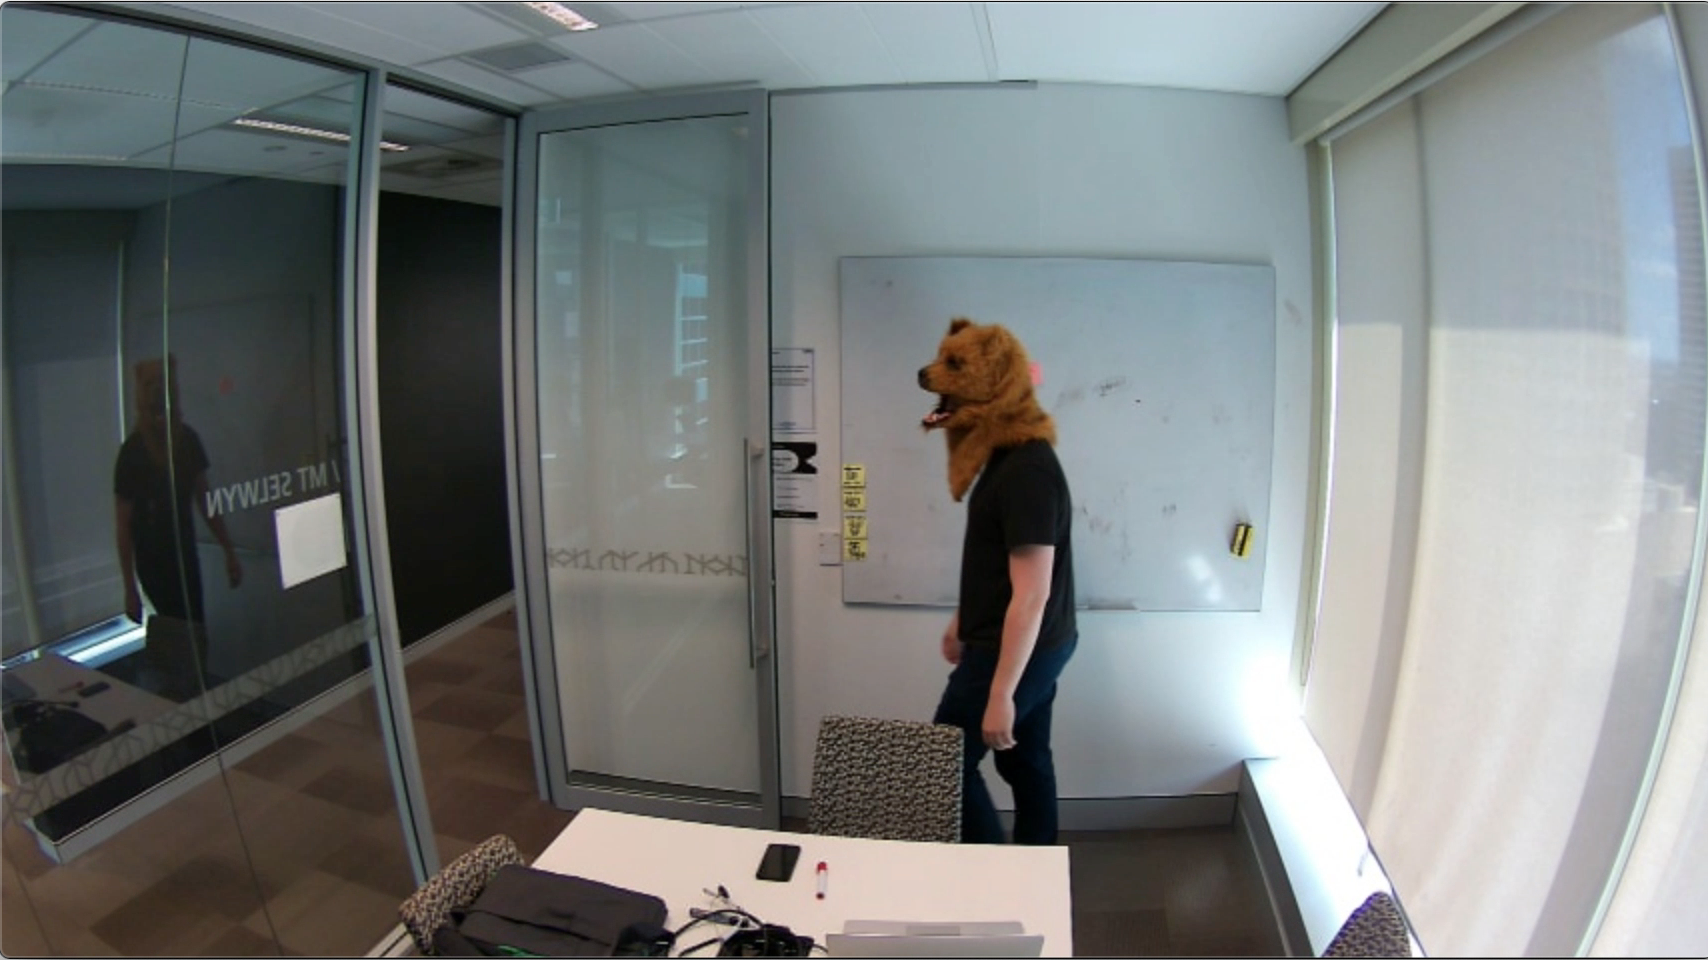Bear: (908, 313, 1051, 445)
